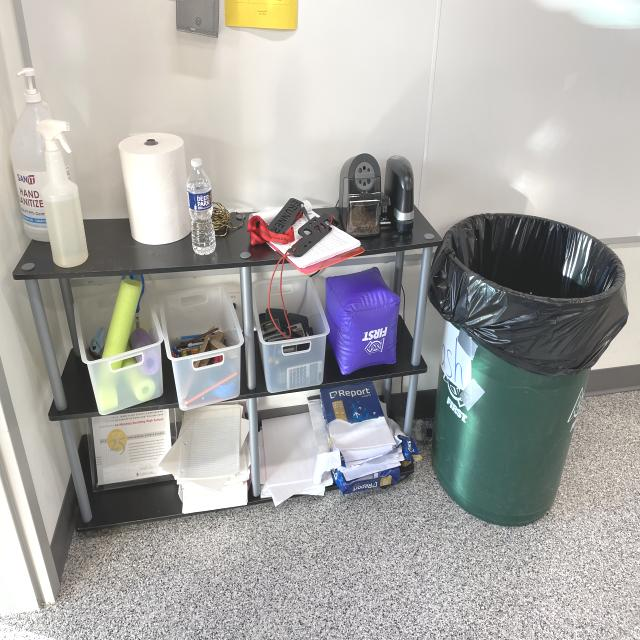frc_cube: (321, 264, 403, 376)
